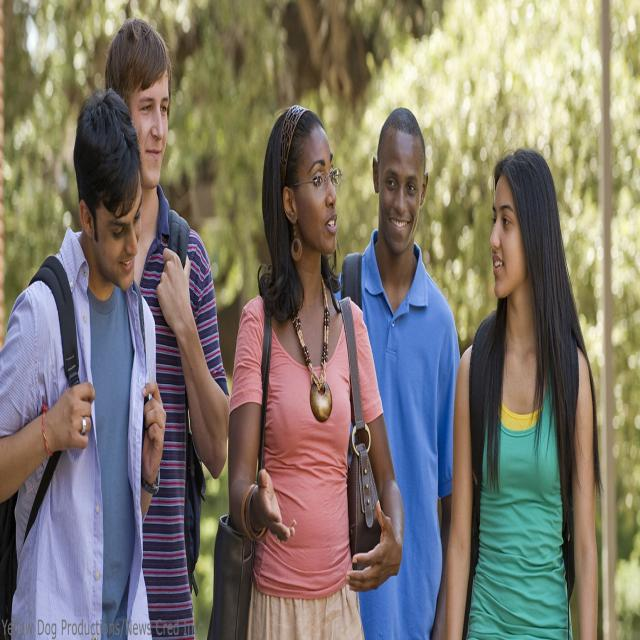body: (201, 94, 408, 639), (0, 82, 167, 639), (441, 145, 605, 639), (103, 14, 231, 640), (326, 104, 462, 639)
